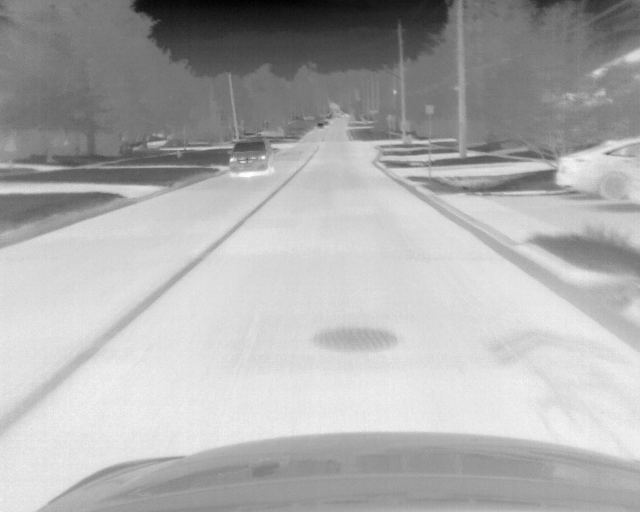car: (553, 135, 640, 201), (227, 136, 274, 176)
